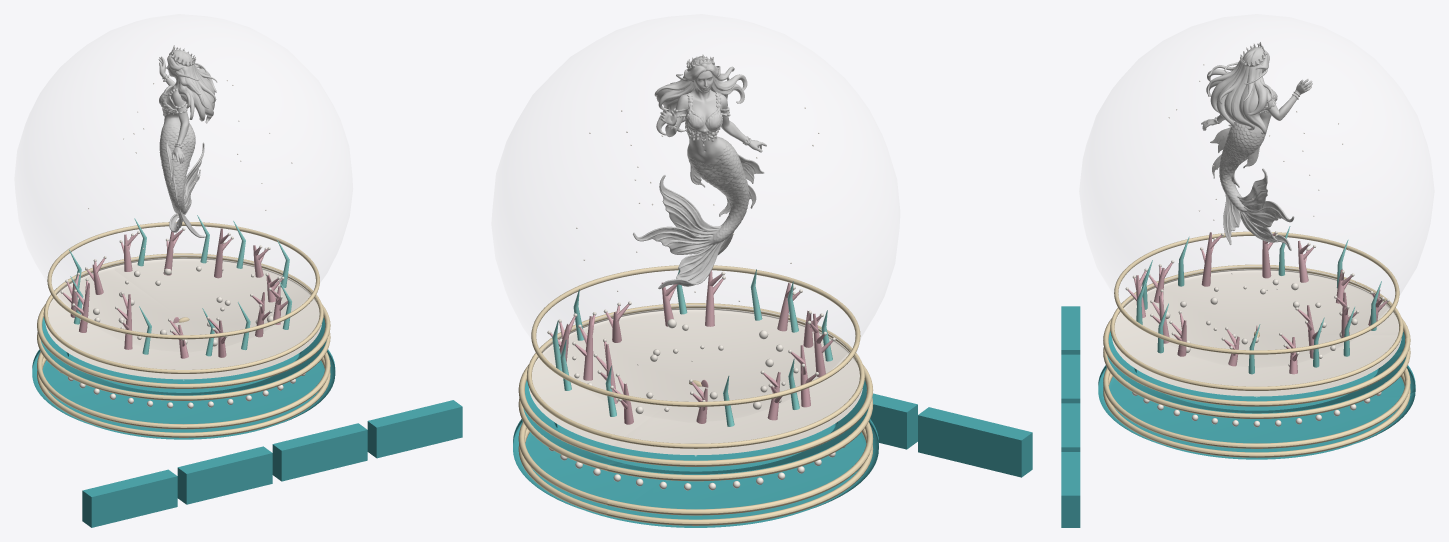
Rendered from MermaidCrystalAtelier.unity.glb.
3 renders of one model, left to right at view 1: azimuth 30°, elevation 25°; view 2: azimuth 150°, elevation 25°; view 3: azimuth 270°, elevation 25°, orthographic. The views are drawn at different scales.
Parts seen in each view (by area): view 1: Seabed, Sculpted Enamel Pedestal, Gold Molding (×4), tripo_node_0529dbda-f2e0-4174-9171-5212fee26396, Theme Button, Reset Button, Pause Button, Rotation Button, Crystal Neck, Inner Gold Reef Rim; view 2: Seabed, Sculpted Enamel Pedestal, tripo_node_0529dbda-f2e0-4174-9171-5212fee26396, Gold Molding (×4), Theme Button, Crystal Neck, Inner Gold Reef Rim, Pause Button; view 3: Seabed, Sculpted Enamel Pedestal, tripo_node_0529dbda-f2e0-4174-9171-5212fee26396, Gold Molding (×4), Crystal Neck, Inner Gold Reef Rim, Reset Button, Pause Button, Theme Button, Rotation Button.
Part boxes in pixels (box(x1,y1,x2,y2)): Seabed: box(45, 255, 321, 379); Sculpted Enamel Pedestal: box(32, 317, 335, 439); Gold Molding (×4): box(37, 304, 330, 437); tripo_node_0529dbda-f2e0-4174-9171-5212fee26396: box(158, 45, 217, 237); Theme Button: box(82, 469, 177, 527); Reset Button: box(367, 400, 462, 458); Pause Button: box(177, 446, 272, 504); Rotation Button: box(272, 423, 367, 481); Crystal Neck: box(47, 221, 319, 339); Inner Gold Reef Rim: box(43, 253, 323, 373); Seabed: box(529, 305, 862, 455); Sculpted Enamel Pedestal: box(513, 380, 878, 527); tripo_node_0529dbda-f2e0-4174-9171-5212fee26396: box(633, 54, 766, 289); Gold Molding (×4): box(518, 364, 873, 525); Theme Button: box(918, 407, 1032, 477); Crystal Neck: box(531, 265, 860, 406); Inner Gold Reef Rim: box(527, 303, 864, 448); Pause Button: box(870, 393, 917, 449); Seabed: box(1112, 266, 1401, 396); Sculpted Enamel Pedestal: box(1098, 331, 1415, 459); tripo_node_0529dbda-f2e0-4174-9171-5212fee26396: box(1201, 42, 1312, 250); Gold Molding (×4): box(1103, 317, 1410, 457); Crystal Neck: box(1114, 231, 1399, 354); Inner Gold Reef Rim: box(1110, 264, 1403, 390); Reset Button: box(1061, 452, 1080, 527); Pause Button: box(1061, 354, 1080, 403); Theme Button: box(1061, 306, 1080, 354); Rotation Button: box(1061, 403, 1080, 451).
Size of the model in its own units: 0.82 by 0.8125 by 0.6825.
7 materials, 1 textured.
